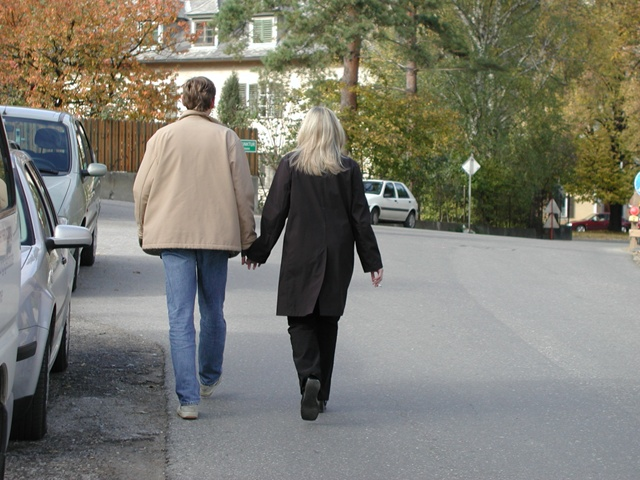person: (130, 77, 260, 417), (251, 107, 384, 419)
